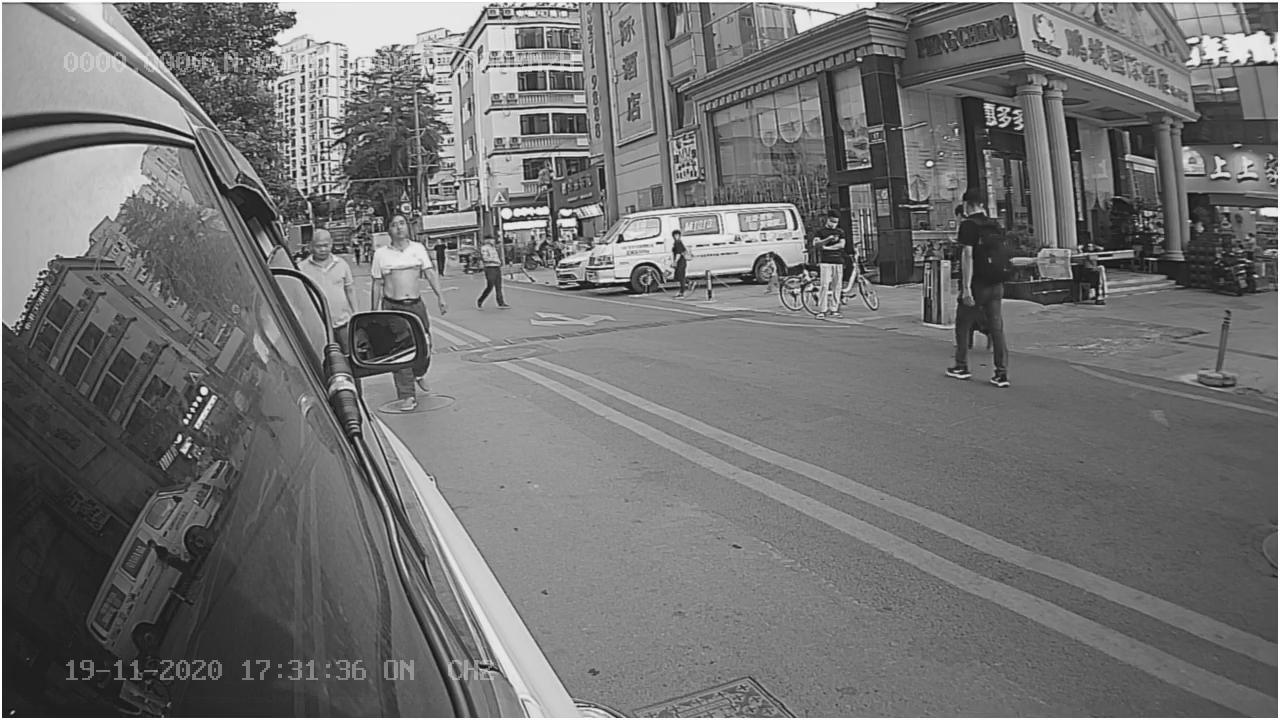person: (367, 209, 440, 304)
